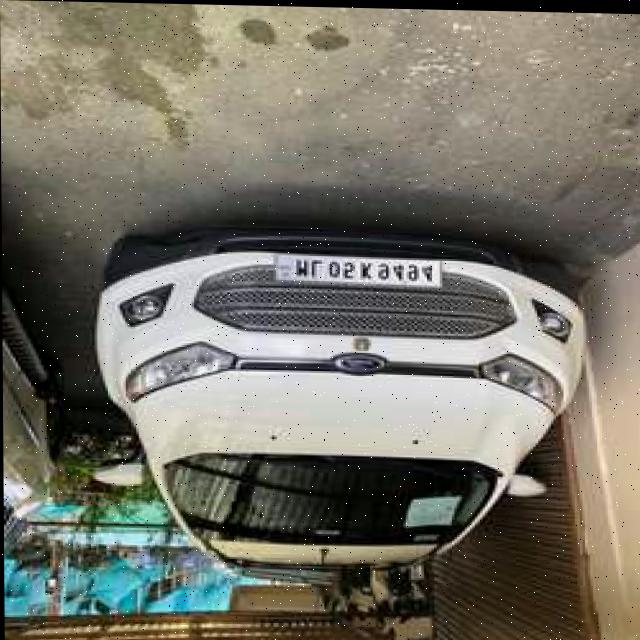plate: (275, 250, 445, 289)
